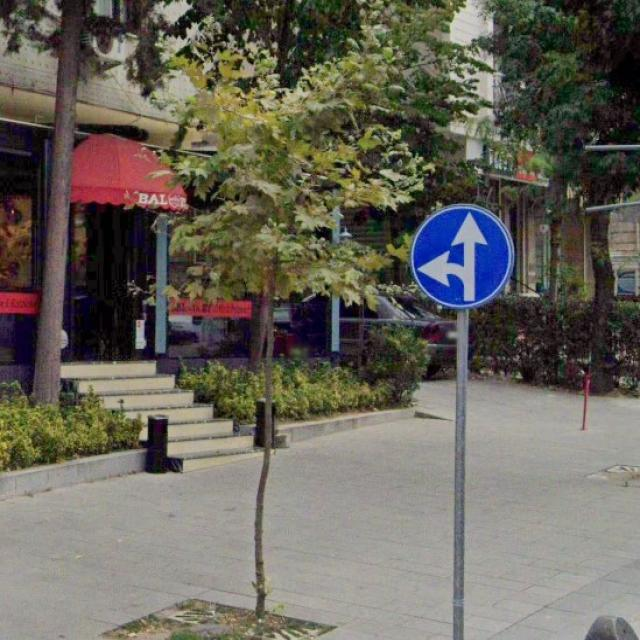ilerisol: (413, 203, 513, 308)
